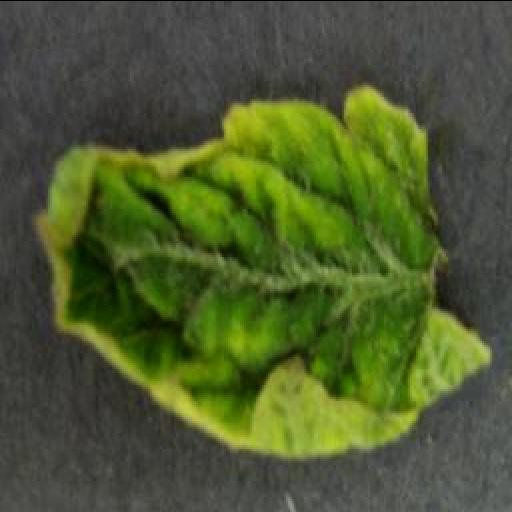disease_tomato: (31, 80, 493, 460)
